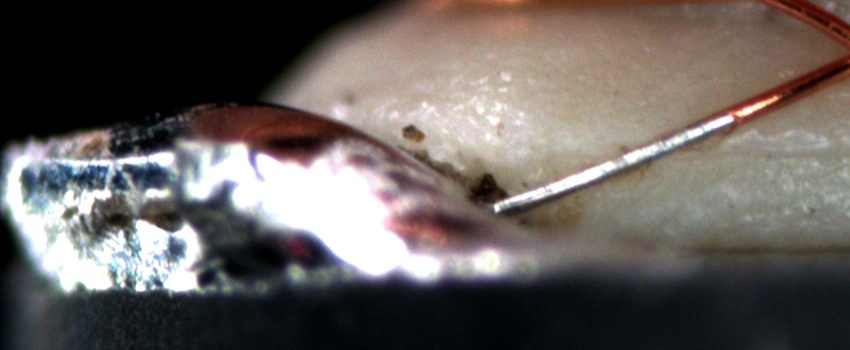CL: (828, 21, 850, 77)
DL: (683, 119, 850, 183)
TS: (490, 112, 736, 214)
